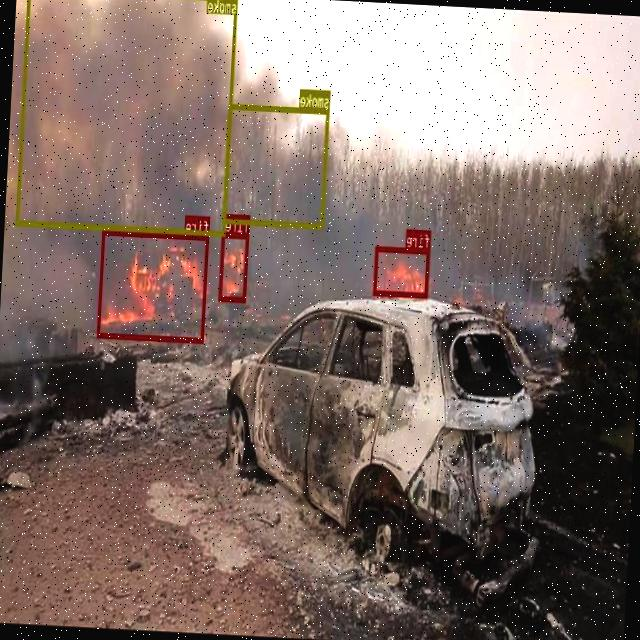fire: (98, 230, 210, 342), (373, 245, 431, 298), (219, 232, 250, 302)
smoke: (16, 0, 238, 235), (224, 104, 330, 228)
